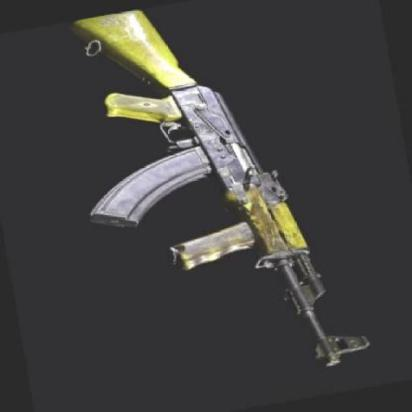Gun: (73, 7, 362, 372)
